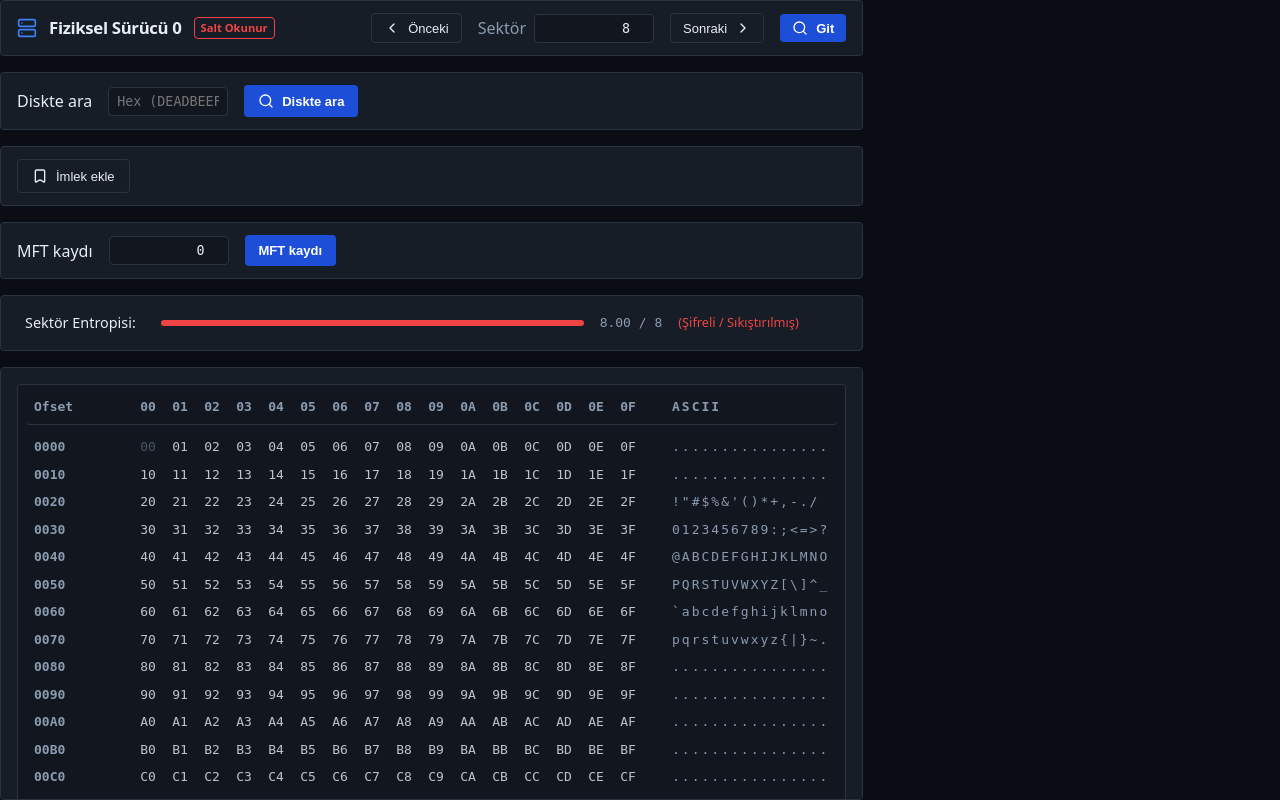
it: HexEditor hex search › bookmarks the current sector and jumps back to it
The image size is (1280, 800).
Click the button with test id "hex-mark-add": (73, 176) 17,159 -> 130,193
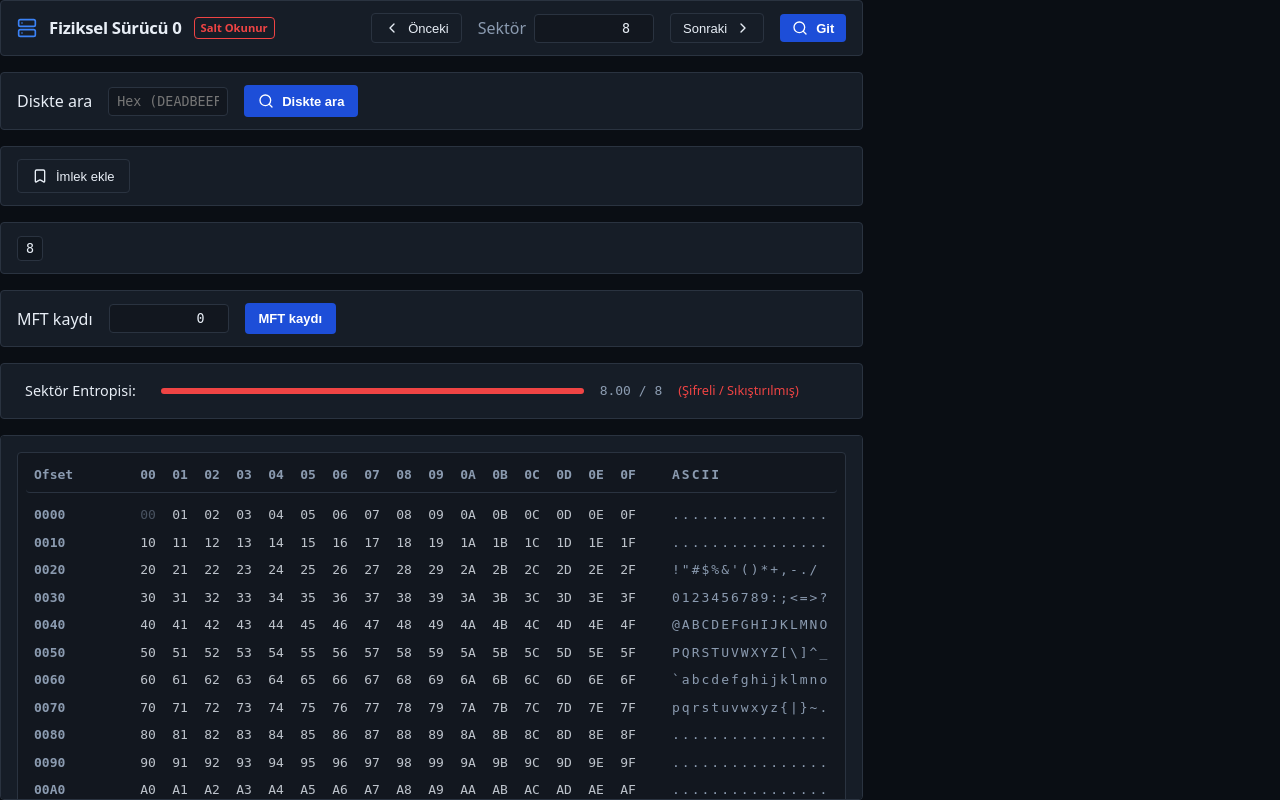
Expected: the button with test id "hex-mark-0" reads "8", 17,236 -> 43,261
Replace the text in the number field with id "hex-sector" with "99": (594, 28) 534,14 -> 654,42
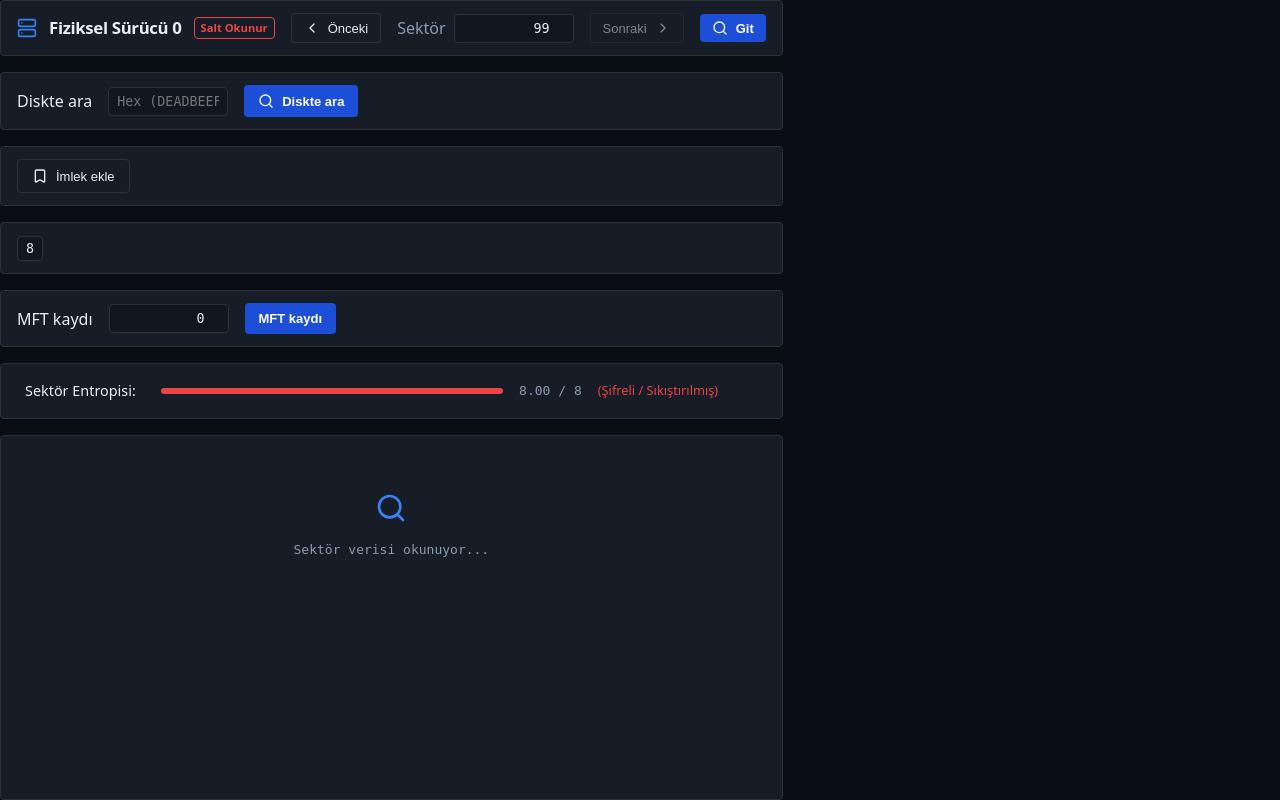
Click the button with test id "hex-mark-0": (30, 248) 17,236 -> 43,261
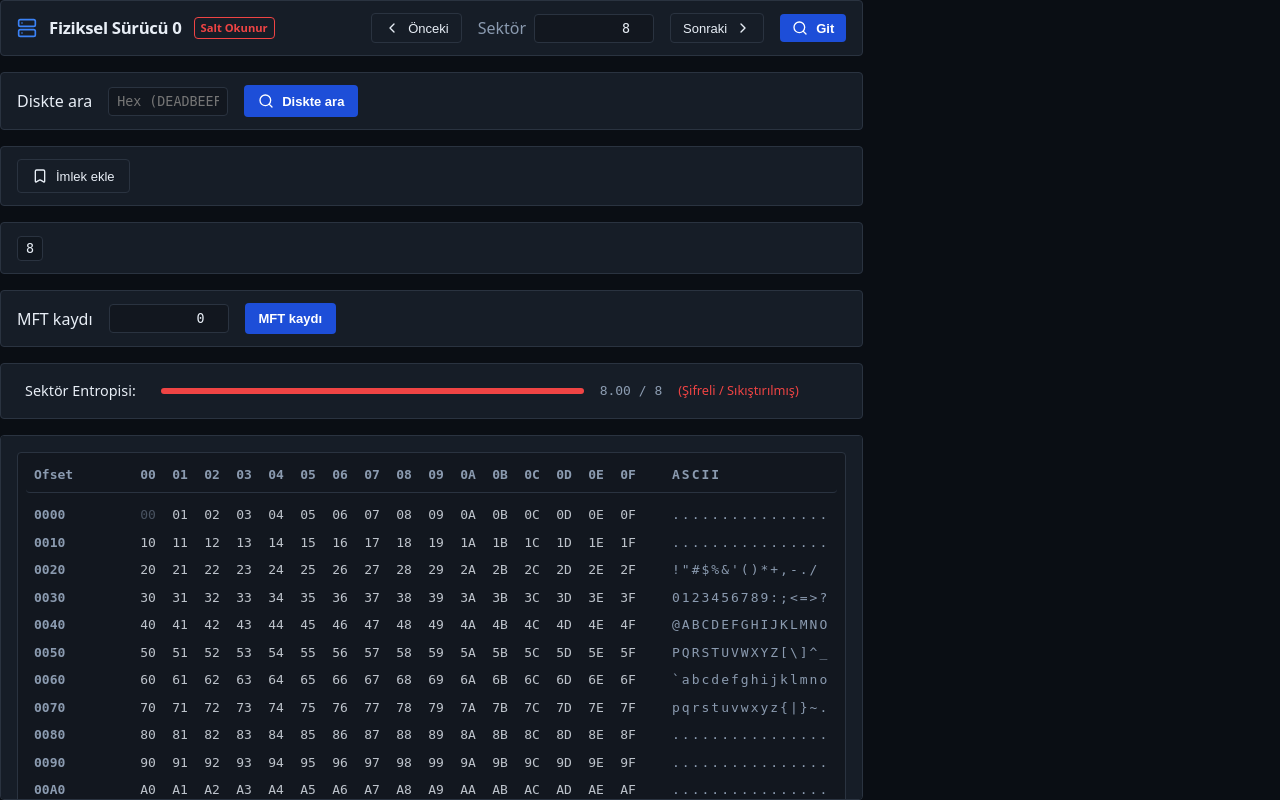
Expected: the number field with id "hex-sector" holds "8", 534,14 -> 654,42
